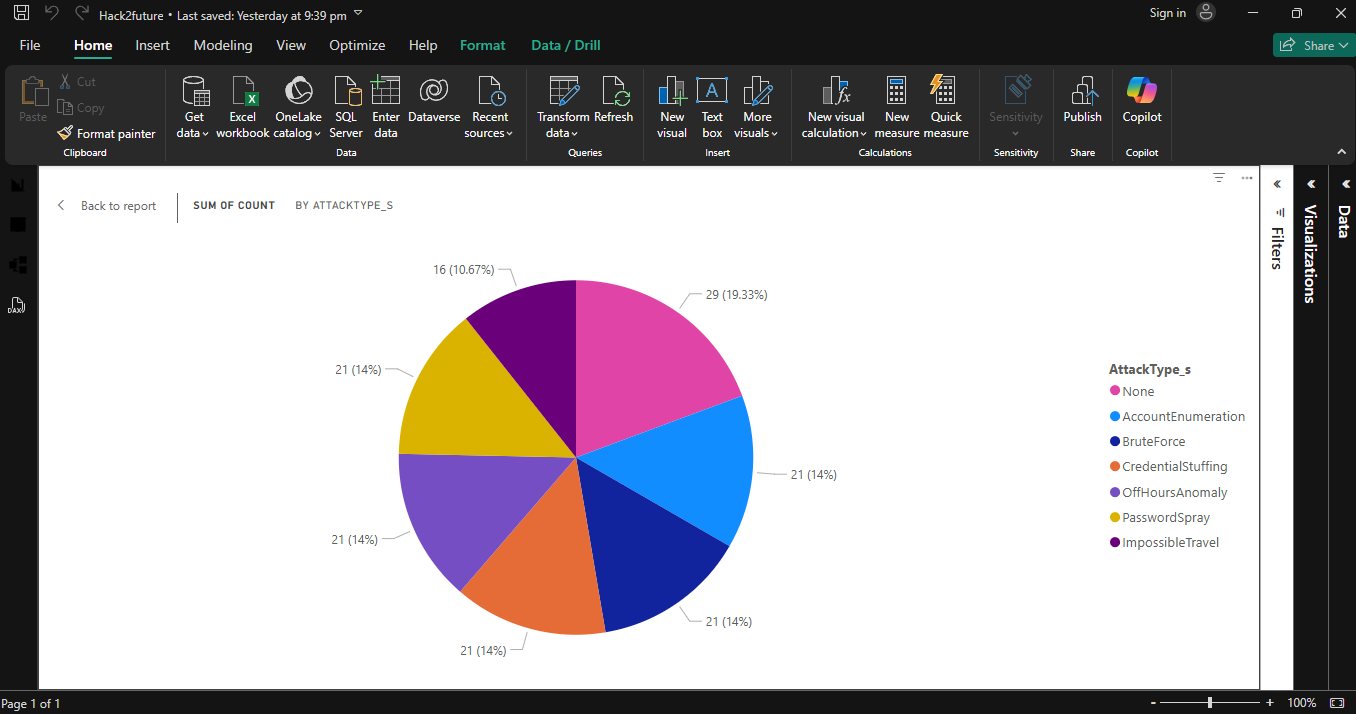

Layout of this report page (visuals, bound fields, positions):
{"tool":"powerbi","page":{"name":"Page 1","canvas":[1280,720],"ordinal":0},"visuals":[{"type":"pieChart","fields":{"Category":["Hack2Future dashboard BI.AttackType_s"],"Y":["Sum(Hack2Future dashboard BI.Count)"]},"box":[10,0,280,280],"z":0}]}

Visuals, with their boxes on the page's 1280x720 design canvas (x1, y1, x2, y2). These are canvas units, not pixel positions in the 1356x714 screenshot, which may show the page scaled, cropped or inside an application window:
pieChart - Hack2Future dashboard BI.AttackType_s x Sum(Hack2Future dashboard BI.Count): <region>10, 0, 290, 280</region>
